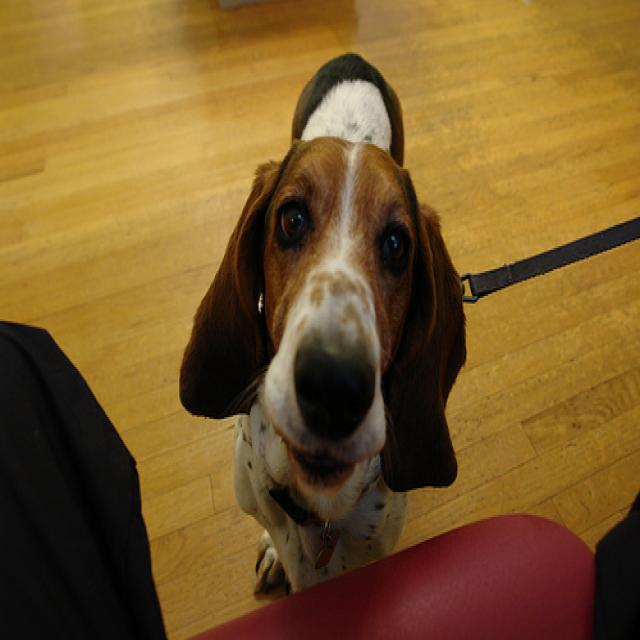dog-basset_hound: (170, 46, 468, 607)
